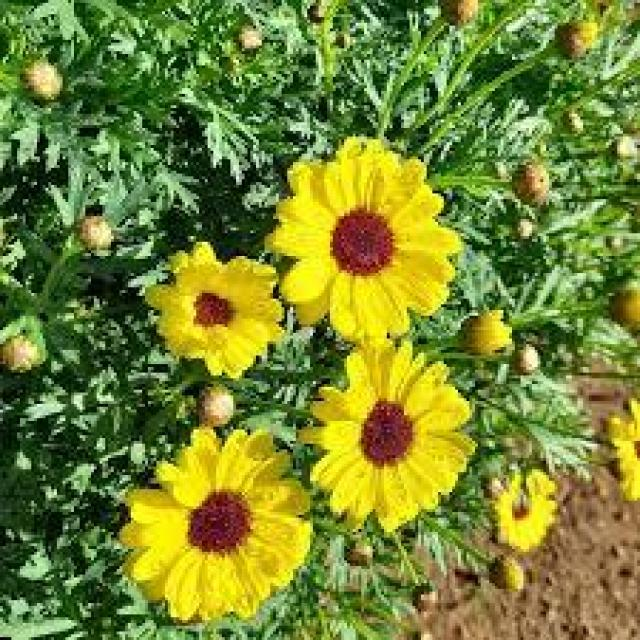organic waste: (108, 425, 319, 599), (273, 138, 461, 331), (303, 348, 474, 528), (135, 245, 300, 364)
